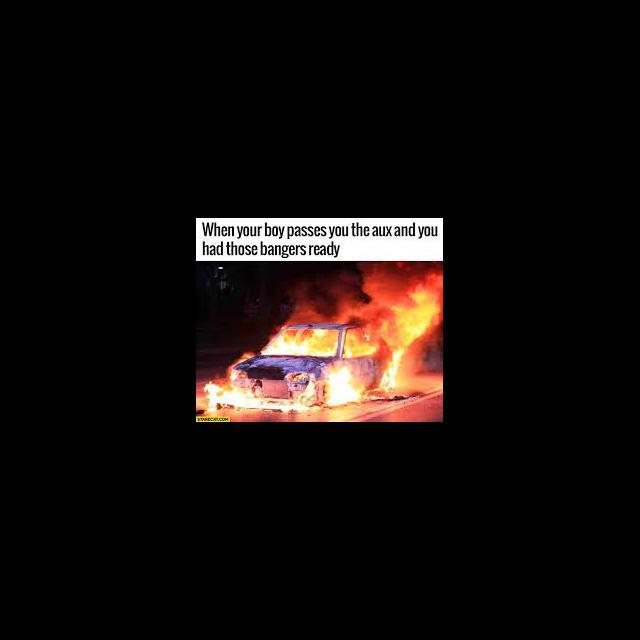Fire: (200, 376, 318, 414), (266, 327, 338, 359), (401, 298, 434, 346), (326, 366, 364, 405), (380, 346, 406, 388), (345, 328, 375, 358)
